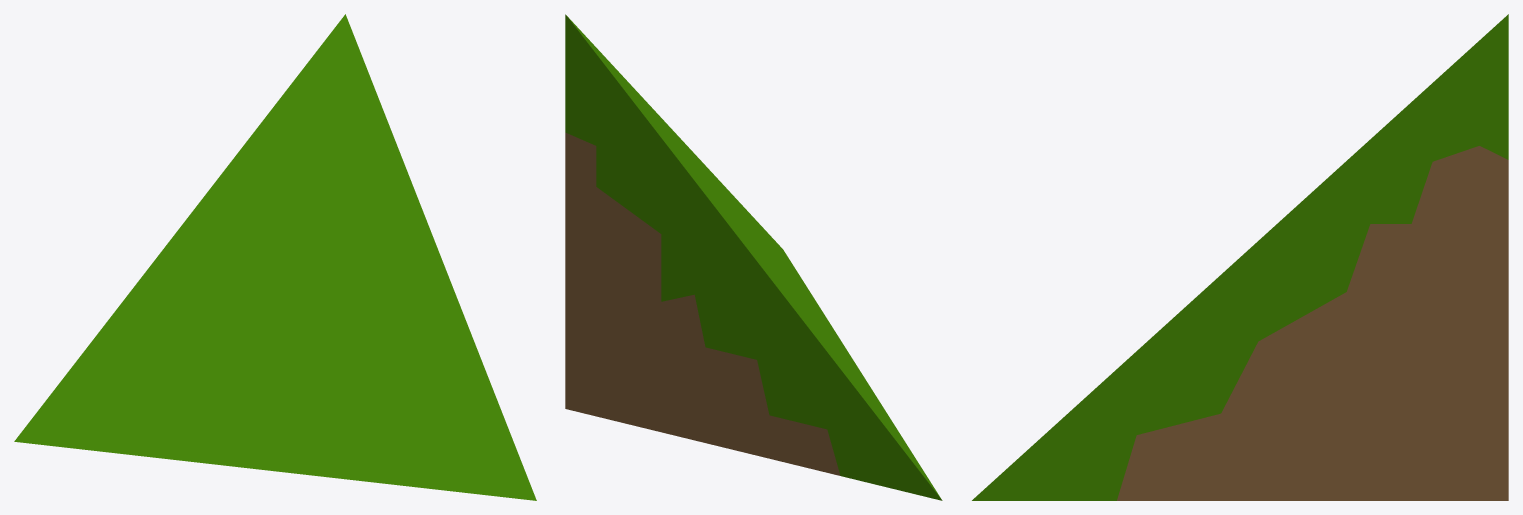
Rendered from RPG_Tiles_Square_Corner_Covered_01.FBX.
3 views of the same model, side by side, from view 1: azimuth 30°, elevation 25°; view 2: azimuth 150°, elevation 25°; view 3: azimuth 270°, elevation 25° (orthographic). The views are drawn at different scales.
Parts seen in each view (by area): view 1: RPG_Tiles_Square_Corner_Covered_01; view 2: RPG_Tiles_Square_Corner_Covered_01; view 3: RPG_Tiles_Square_Corner_Covered_01.
Boxes of the visible parts, left/top/right/bottom form: RPG_Tiles_Square_Corner_Covered_01: left=14, top=14, right=536, bottom=500; RPG_Tiles_Square_Corner_Covered_01: left=565, top=14, right=942, bottom=500; RPG_Tiles_Square_Corner_Covered_01: left=972, top=14, right=1508, bottom=500.
Size of the model in its own units: 3000 by 3000 by 3000.
